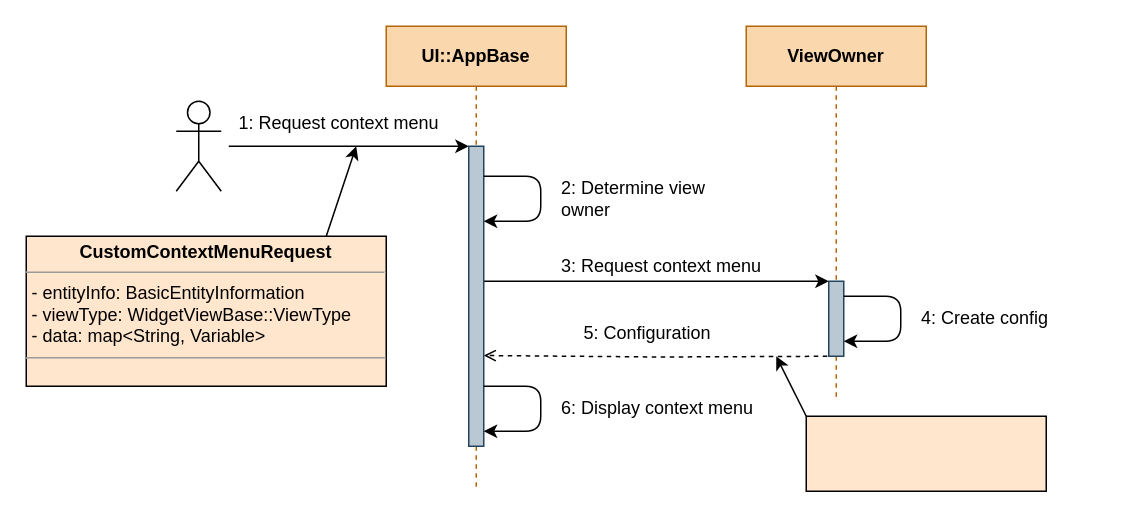
Some shapes in this 1125 by 518 pixel diagram are drawn without their labels. The box of each missing label's shape, as (x1, y1, x2, y2) in pixels:
MenuCfg: (805, 415, 1046, 491)
Widget: (175, 100, 221, 191)
